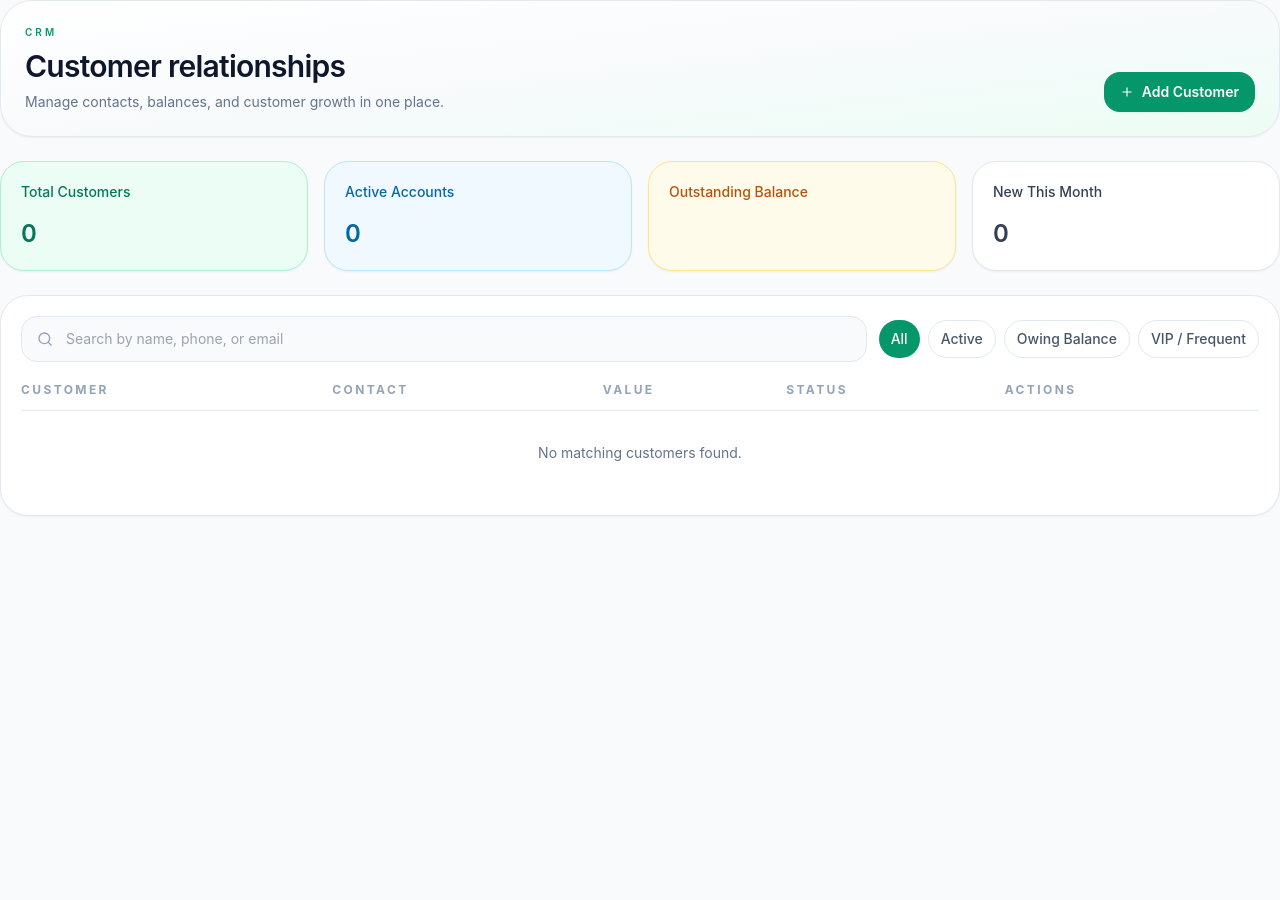
Test: Customers page › opens the add customer drawer
Click the button "Add Customer": [1179, 92] box [1104, 72, 1255, 112]
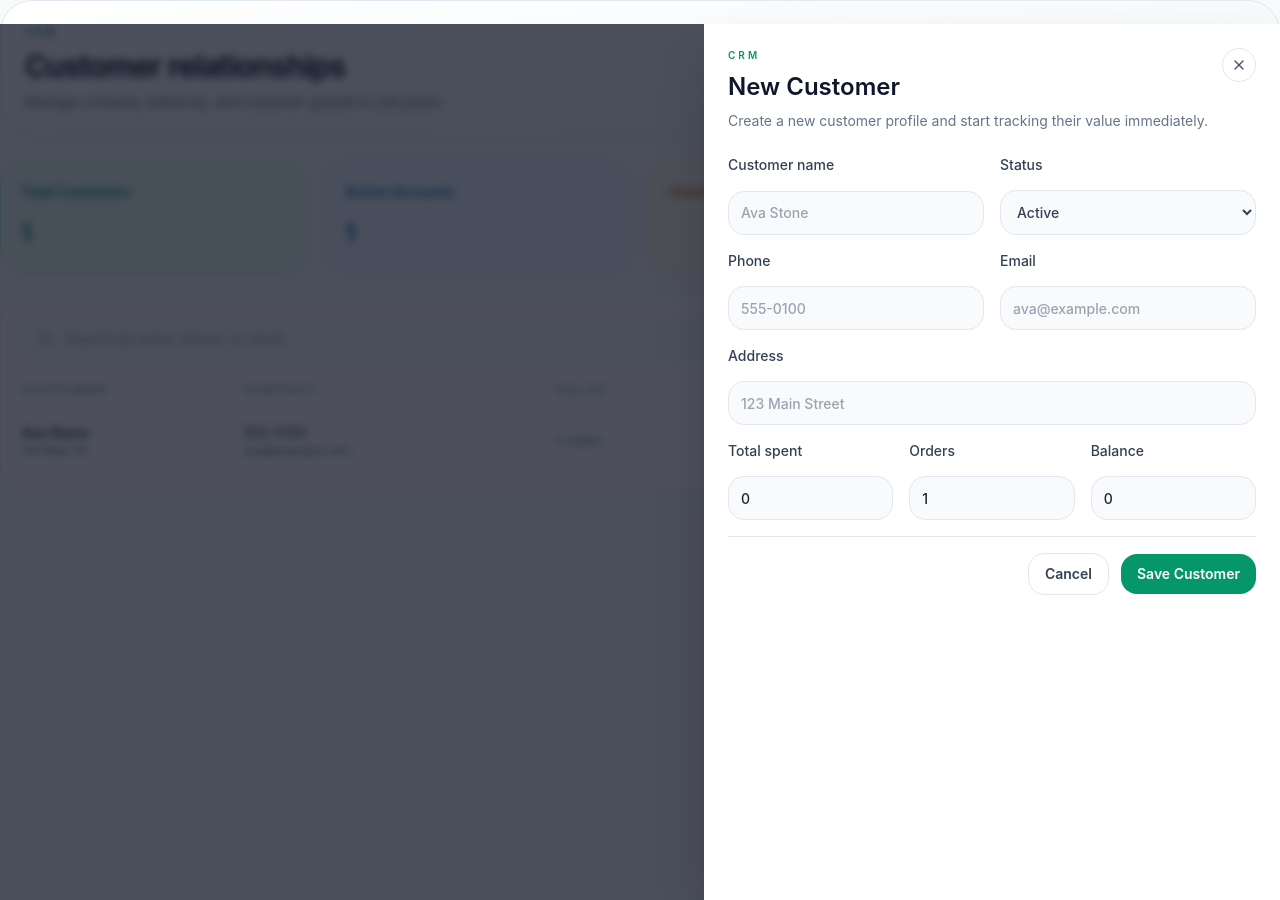
Expected: the heading "New Customer" is shown, [728, 72, 900, 101]
